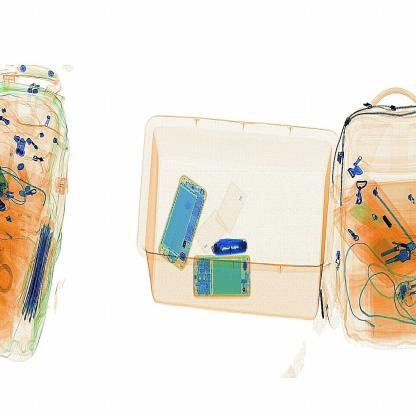scissors: (211, 234, 248, 256)
